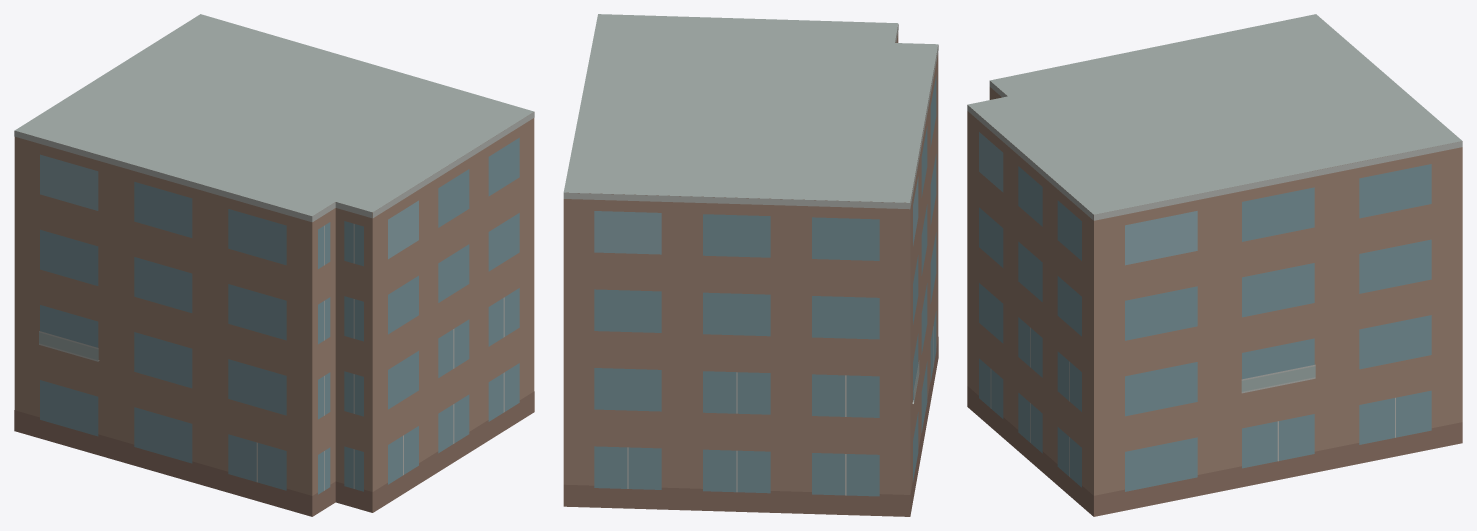
Rendered from survey-upis-32741018.glb.
3 renders of one model, left to right at view 1: azimuth 30°, elevation 25°; view 2: azimuth 150°, elevation 25°; view 3: azimuth 270°, elevation 25°, orthographic. The views are drawn at different scales.
Parts seen in each view (by area): view 1: survey-upis-32741018.tmp; view 2: survey-upis-32741018.tmp; view 3: survey-upis-32741018.tmp.
Part boxes in pixels (x1,y1,x2,y2): survey-upis-32741018.tmp: [14, 14, 534, 516]; survey-upis-32741018.tmp: [563, 14, 938, 516]; survey-upis-32741018.tmp: [967, 14, 1462, 516].
Size of the model in its own units: 17.4 by 12.2 by 18.14.
